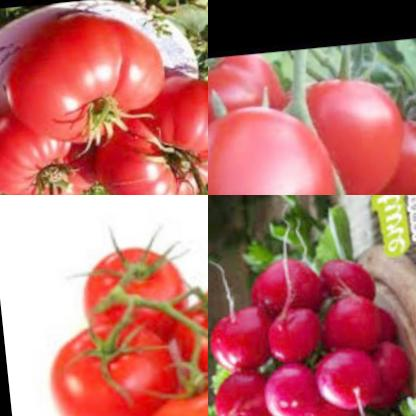rediska: (243, 251, 323, 323), (303, 346, 374, 416), (305, 296, 378, 361), (353, 338, 409, 416), (257, 301, 319, 369), (208, 300, 261, 379), (306, 256, 377, 311), (252, 361, 315, 416), (208, 369, 267, 416), (294, 397, 356, 416)
tomato: (0, 11, 165, 156), (68, 237, 191, 363), (79, 79, 208, 195), (289, 71, 407, 195), (37, 319, 173, 416), (208, 91, 332, 195), (0, 106, 87, 195), (208, 54, 293, 142), (152, 274, 208, 392), (352, 116, 416, 195)
